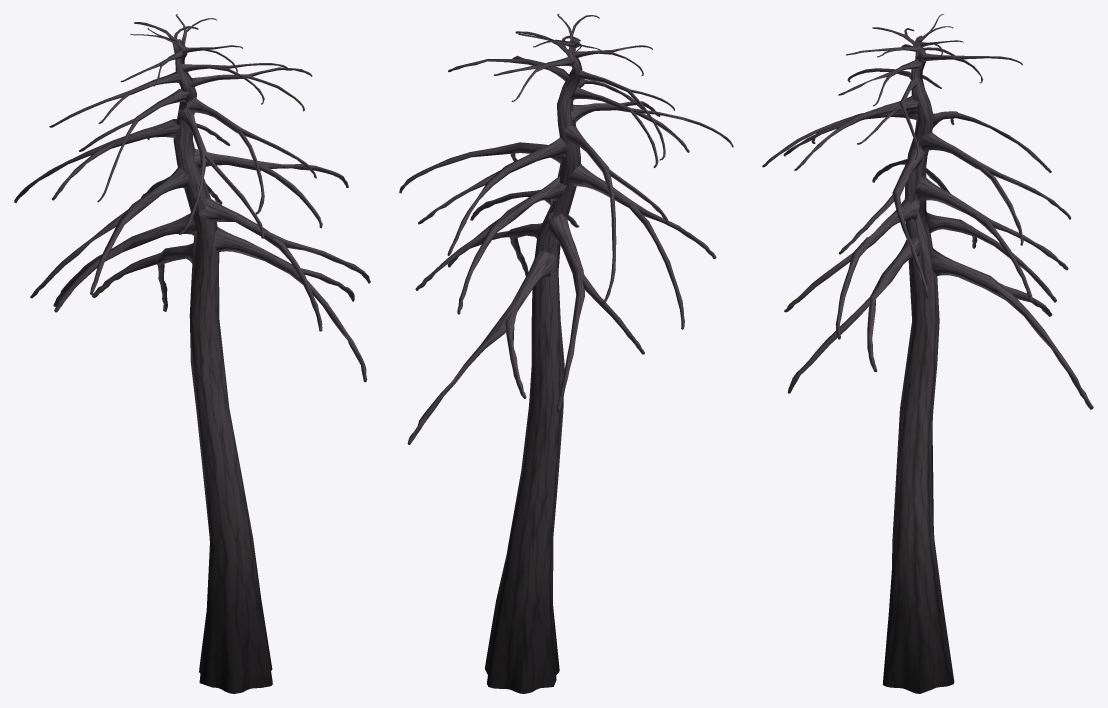
The model's file is DeadTree_3.glb.
The picture shows the model from 3 angles, left to right: view 1: azimuth 30°, elevation 25°; view 2: azimuth 150°, elevation 25°; view 3: azimuth 270°, elevation 25°; orthographic projection. The views are drawn at different scales.
Visible parts, largest first — view 1: DeadTree_3; view 2: DeadTree_3; view 3: DeadTree_3.
Part boxes in pixels (x1,y1,x2,y2): DeadTree_3: (14,14,370,693); DeadTree_3: (399,14,733,693); DeadTree_3: (762,14,1093,693).
Size of the model in its own units: 6.39 by 13.28 by 6.43.
Materials: 1 (1 with a texture image).
